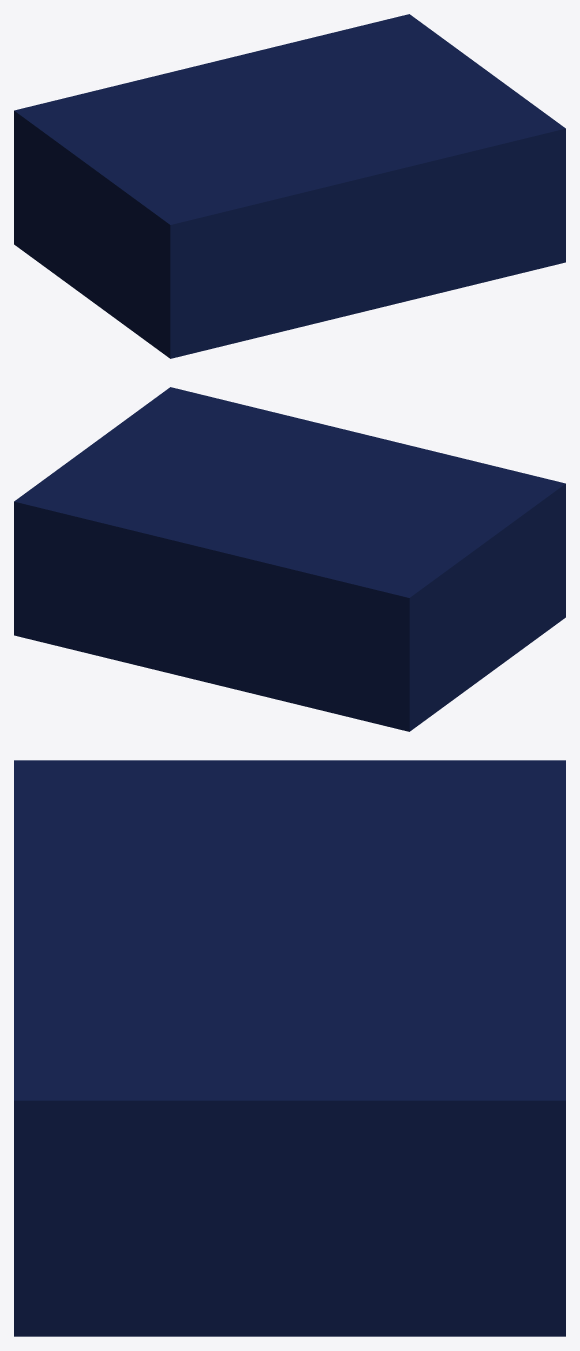
Rendered from start.gltf.
The picture shows the model from 3 angles, top to bottom: view 1: azimuth 30°, elevation 25°; view 2: azimuth 150°, elevation 25°; view 3: azimuth 270°, elevation 25°; orthographic projection. The views are drawn at different scales.
Parts seen in each view (by area): view 1: start; view 2: start; view 3: start.
Part boxes in pixels (x1,y1,x2,y2): start: [14, 14, 565, 358]; start: [14, 387, 565, 731]; start: [14, 760, 565, 1336].
Bounding box in the file's own units: 18.55 × 6 × 12.71.
